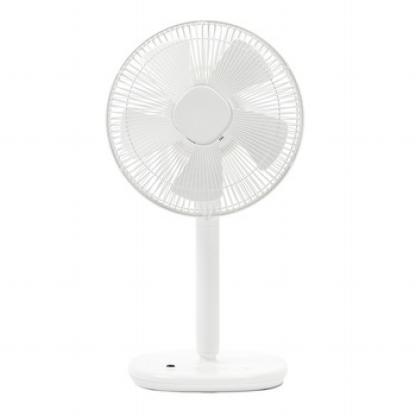fan: (98, 21, 320, 217)
